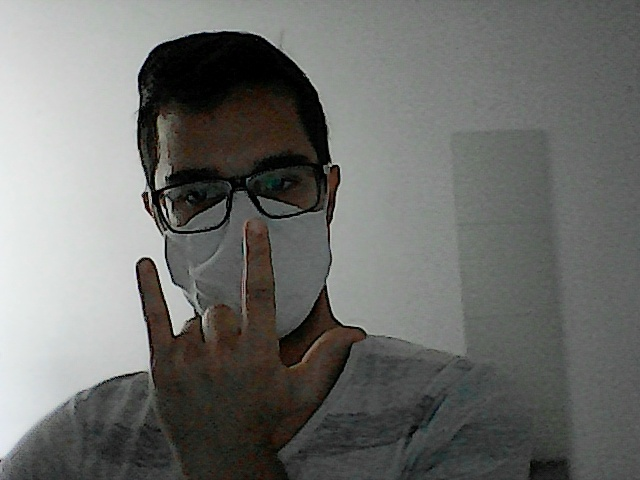shoot: (127, 213, 373, 443)
